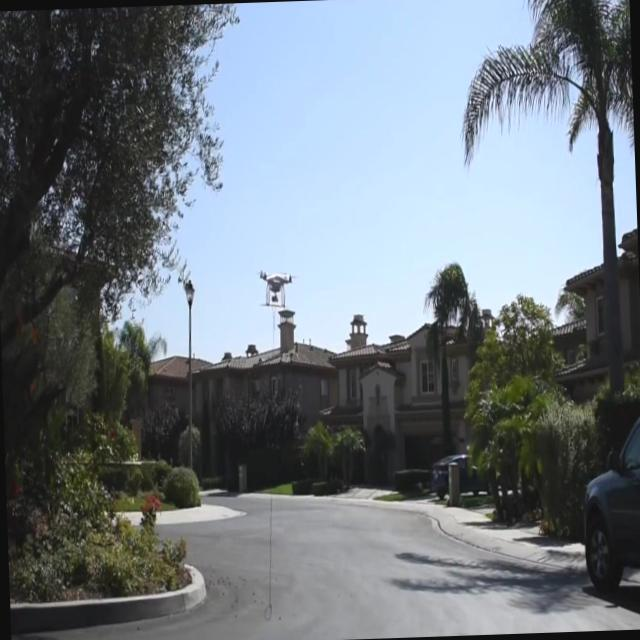drone: (258, 265, 295, 309)
